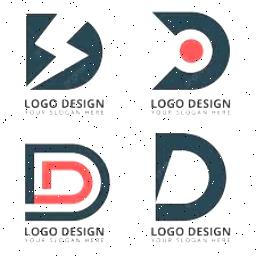d: (19, 137, 117, 225), (150, 128, 234, 224)
